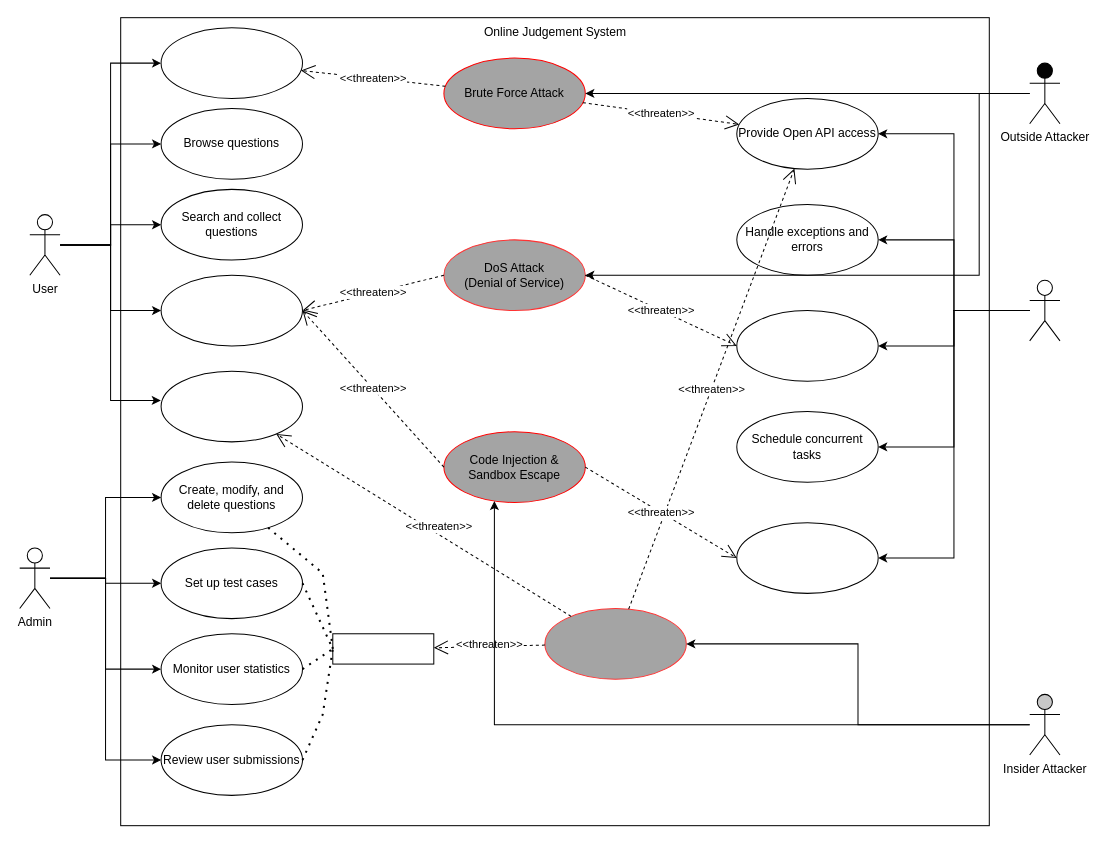
The diagram is 1106 pixels wide and 843 high, and some of its shapes have lost their labels. Here are the shapes that lost their labels. From the top down, the centre of each, then its label:
At point 231,62: "Register and login".
At point 231,310: "Do questions and submit the code".
At point 1044,310: "System".
At point 807,345: "Store and update data".
At point 231,406: "View results and system feedback".
At point 807,557: "Execute code in sandbox environment".
At point 383,648: "Admin Authority".
At point 615,643: "Unauthorised Access Attack".
